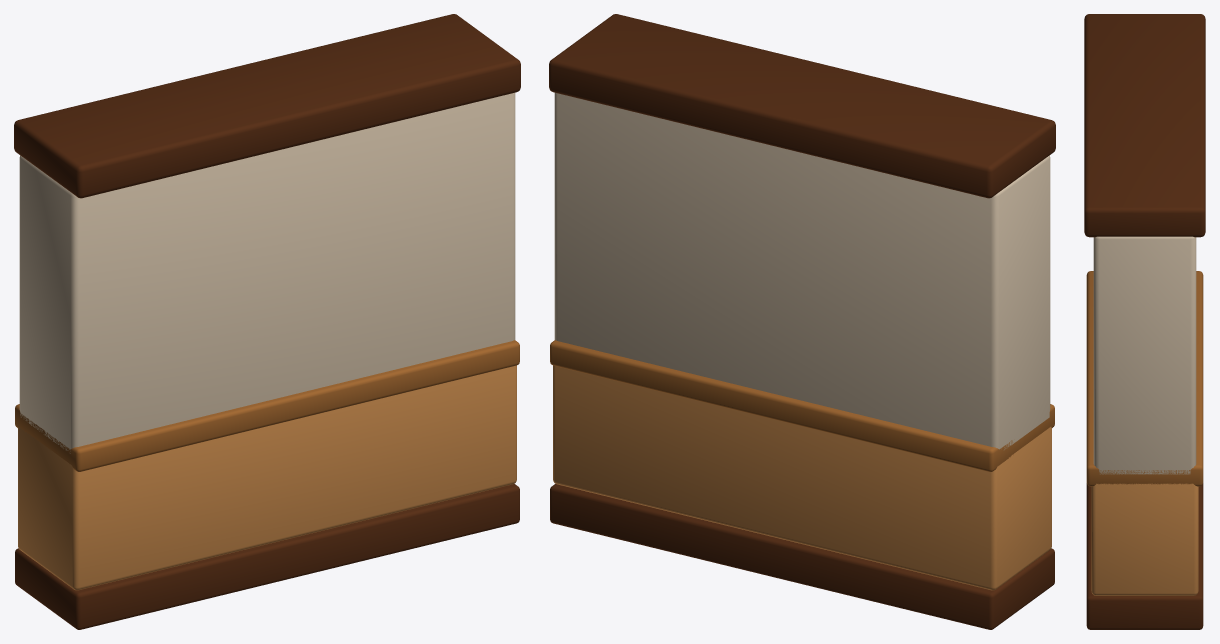
The model's file is wall.gltf.
3 views of the same model, side by side, from view 1: azimuth 30°, elevation 25°; view 2: azimuth 150°, elevation 25°; view 3: azimuth 270°, elevation 25° (orthographic). The views are drawn at different scales.
Visible parts, largest first — view 1: WallUpperCream; view 2: WallUpperCream; view 3: WallUpperCream.
Boxes of the visible parts, x1=… form: WallUpperCream: x1=14, y1=14, x2=520, y2=629; WallUpperCream: x1=549, y1=14, x2=1055, y2=629; WallUpperCream: x1=1084, y1=14, x2=1205, y2=629.
Bounding box in the file's own units: 1 × 1 × 0.26.
